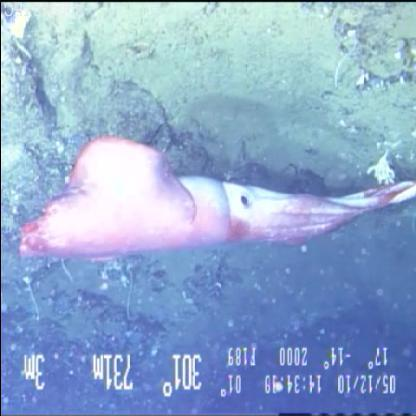Bio: (13, 132, 415, 262), (364, 145, 398, 188)
